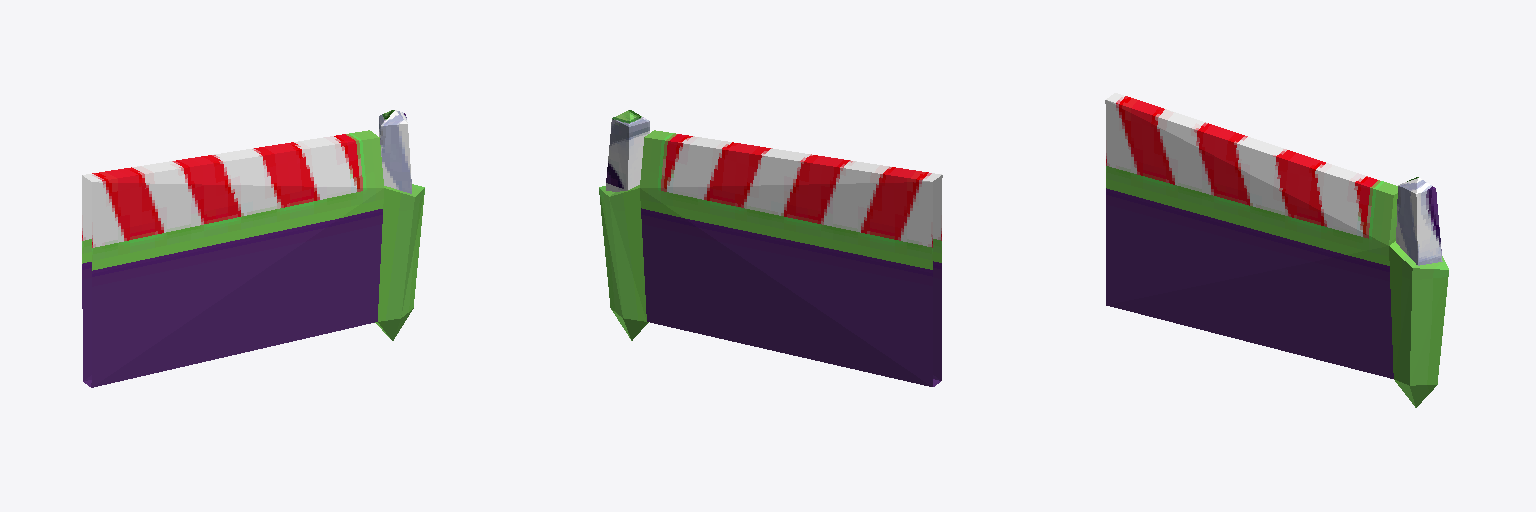
The picture shows the model from 3 angles: view 1: azimuth 30°, elevation 25°; view 2: azimuth 150°, elevation 25°; view 3: azimuth 330°, elevation 25°; orthographic projection.
Parts seen in each view (by area): view 1: buzzlightyLeftWing2_buzzlighty.001; view 2: buzzlightyLeftWing2_buzzlighty.001; view 3: buzzlightyLeftWing2_buzzlighty.001.
Part boxes in pixels (x1,y1,x2,y2): buzzlightyLeftWing2_buzzlighty.001: (82, 110, 424, 387); buzzlightyLeftWing2_buzzlighty.001: (599, 110, 942, 386); buzzlightyLeftWing2_buzzlighty.001: (1105, 93, 1448, 407).
Size of the model in its own units: 0.25 by 0.1677 by 0.0338.
1 materials, 1 textured.